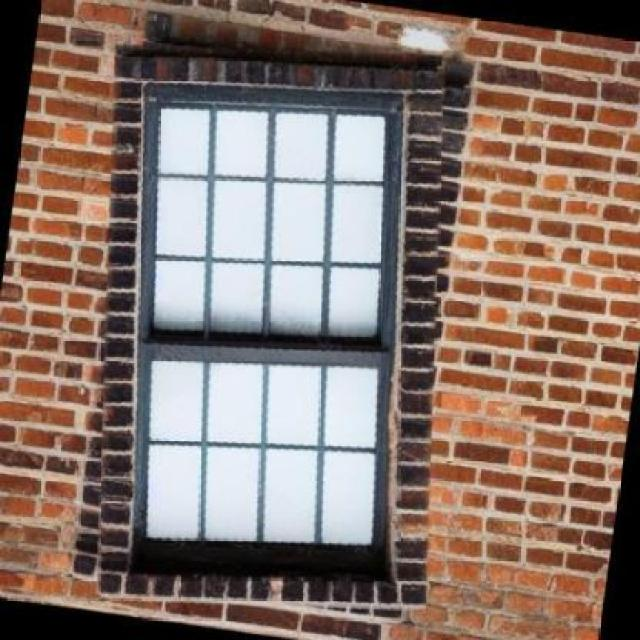window: (137, 86, 401, 585)
